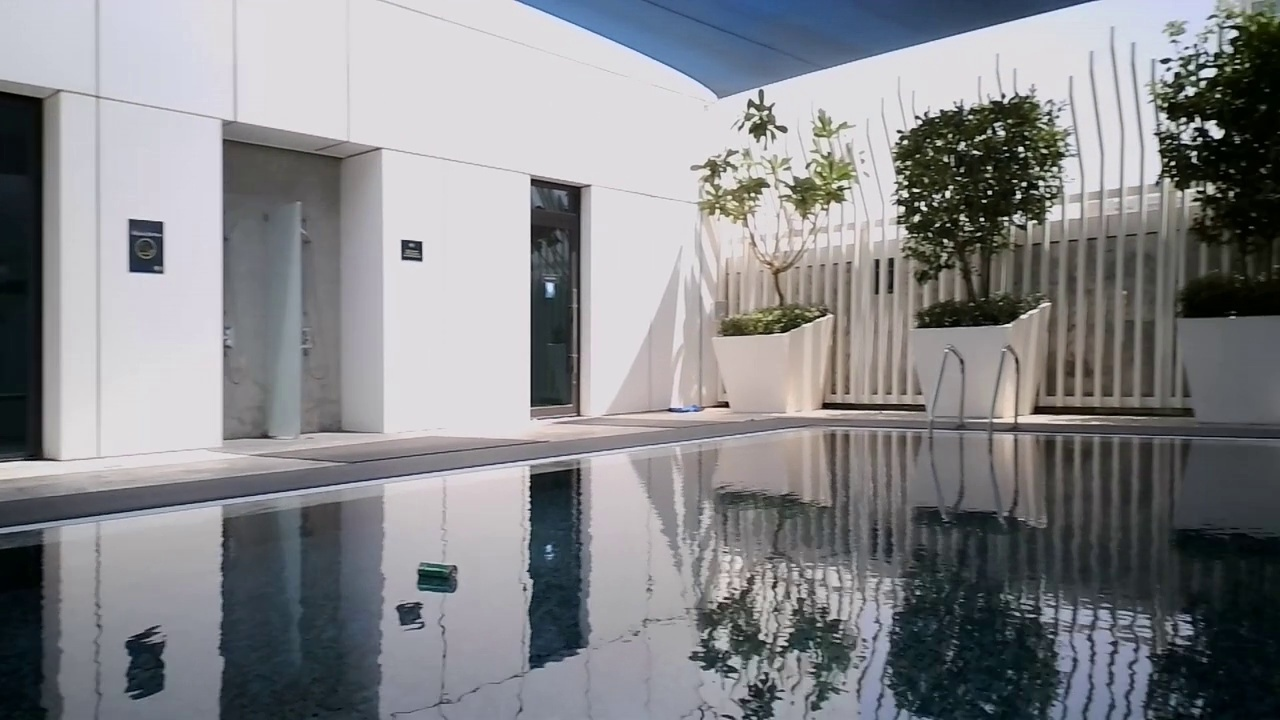debris: (411, 559, 458, 587)
